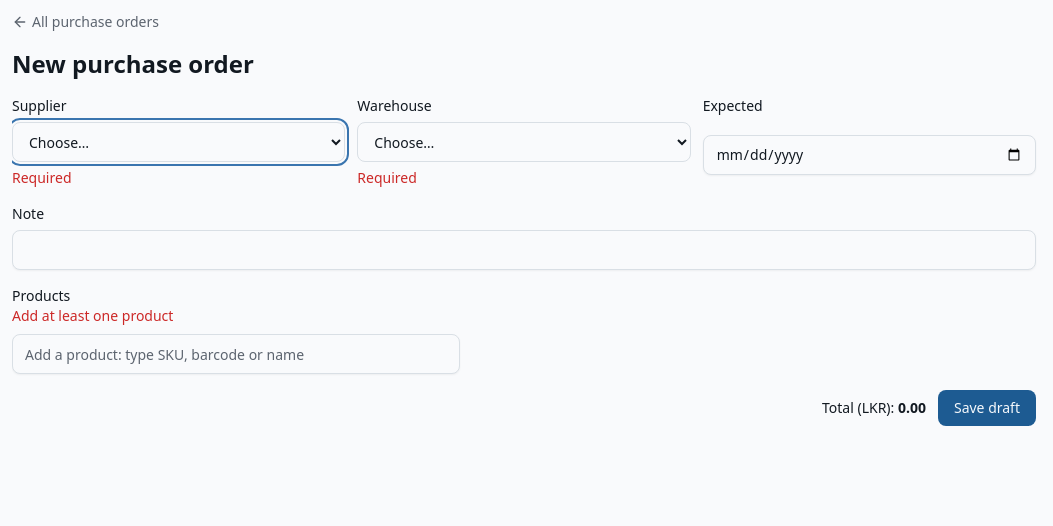
Scenario: adds a product, prices cases from the catalog cost and saves the draft
Earlier steps of the test are not shown.
Later steps or results of the test are not shown.
Check: the text "Add at least one product" is shown, box [12,306,173,325]
Select "Lanka Oils (SUP-1)" in the dropdown labelled "Supplier" at [179, 142], box [12,122,345,162]
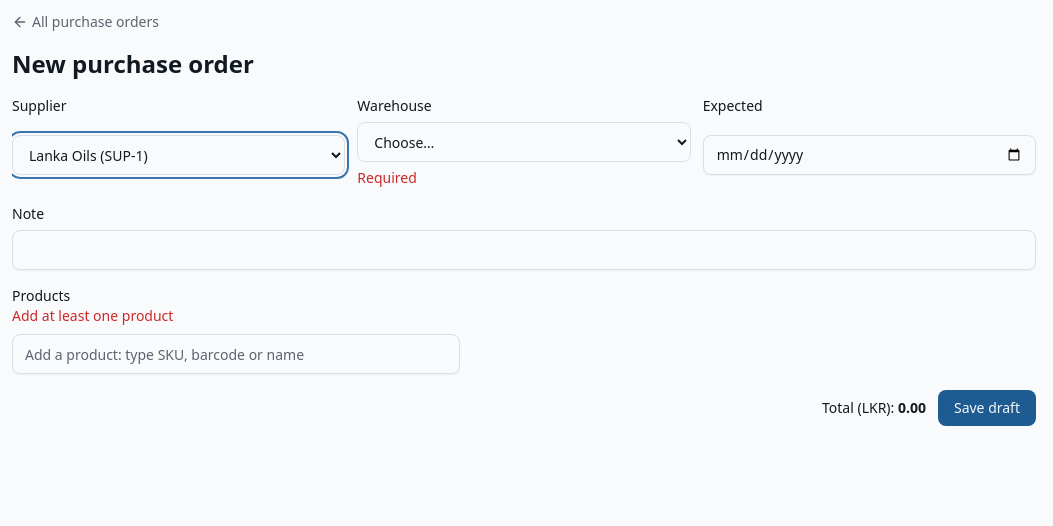
Select "MAIN · Main" in the dropdown labelled "Warehouse" at [524, 142], box [357,122,691,162]
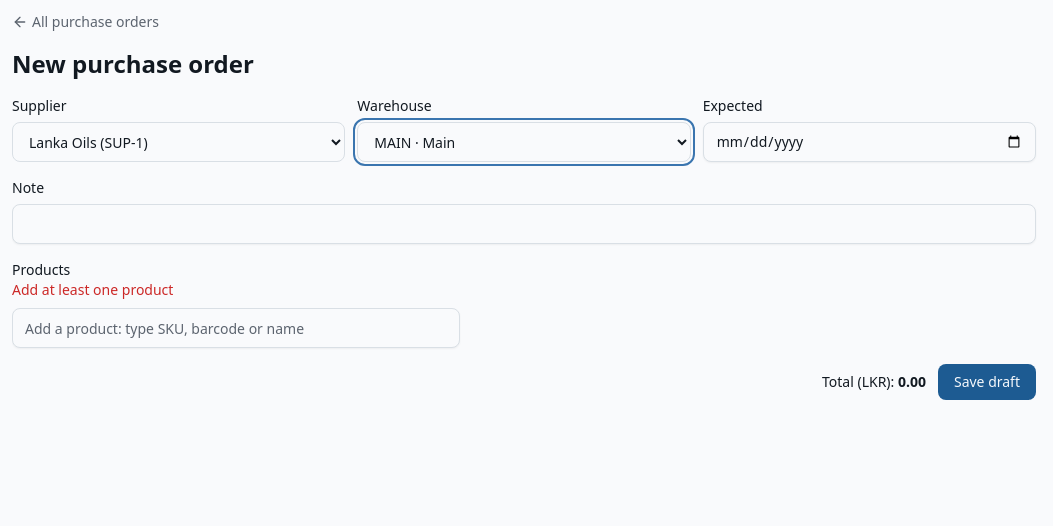
Type "oil" into the field labelled "Add a product: type SKU, barcode or name" at [236, 328], box [12,308,460,348]
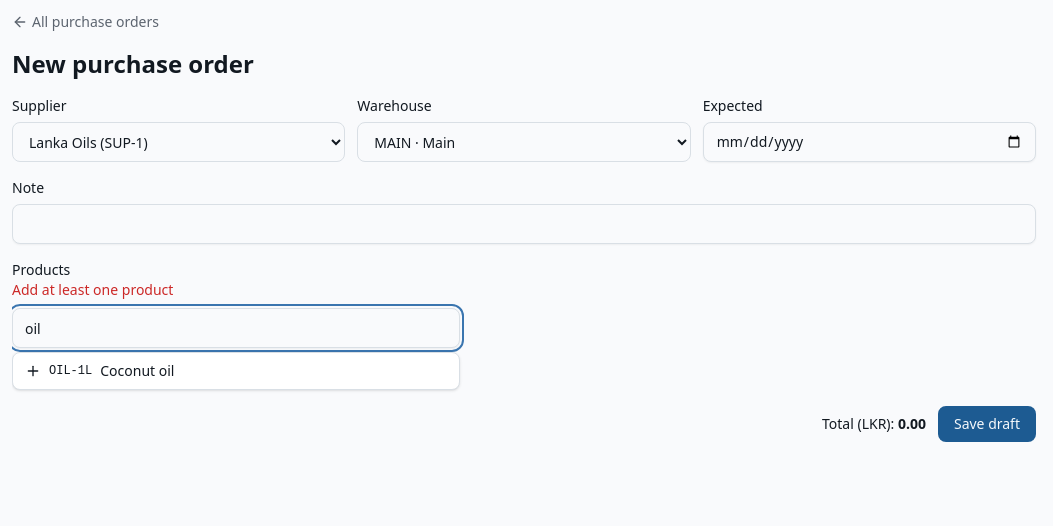
Click the button "OIL-1L Coconut oil" at [71, 371], box [13,353,459,389]
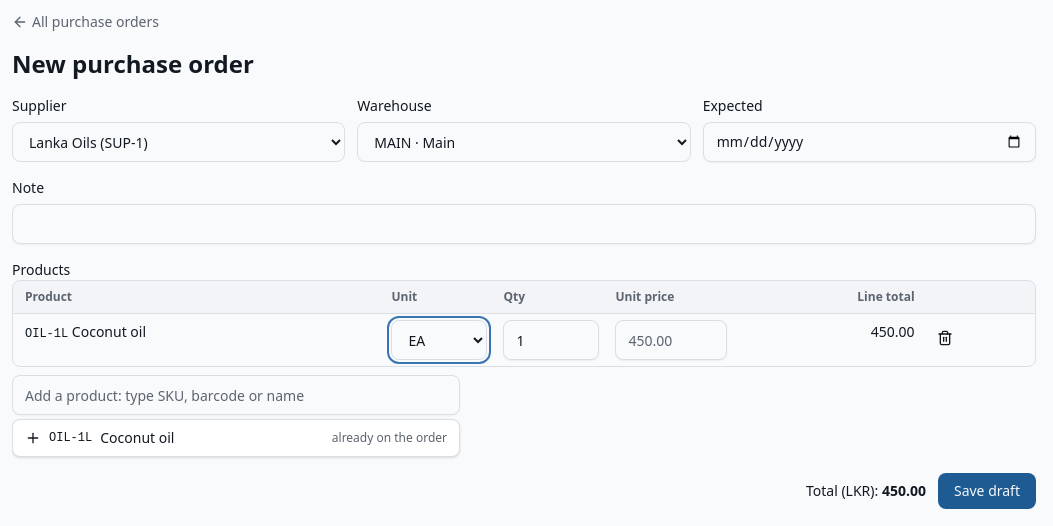
Select "CASE × 12" in the dropdown named "Unit for OIL-1L" at [440, 340], box [392,320,488,360]
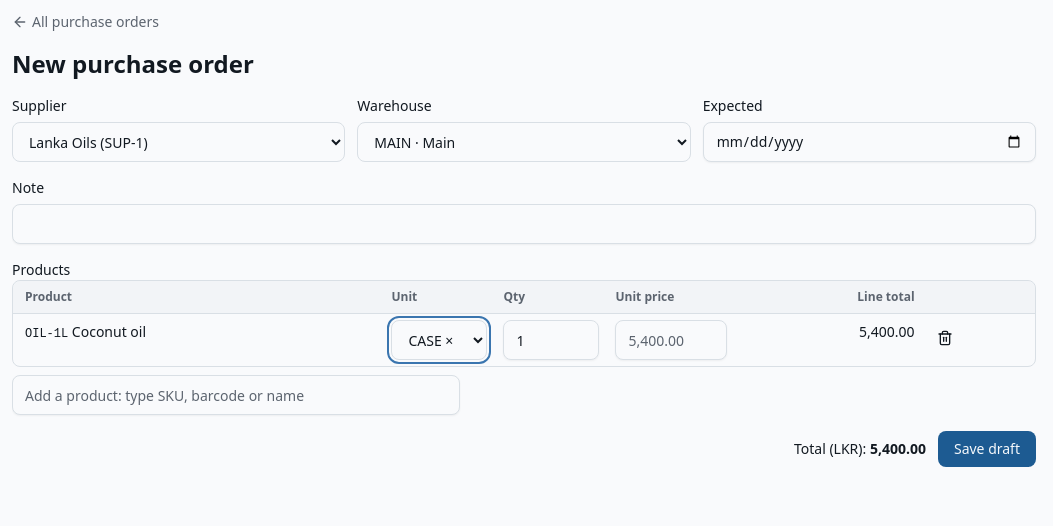
Replace the text in the field named "Quantity of OIL-1L" with "10" at [552, 340], box [504,320,600,360]
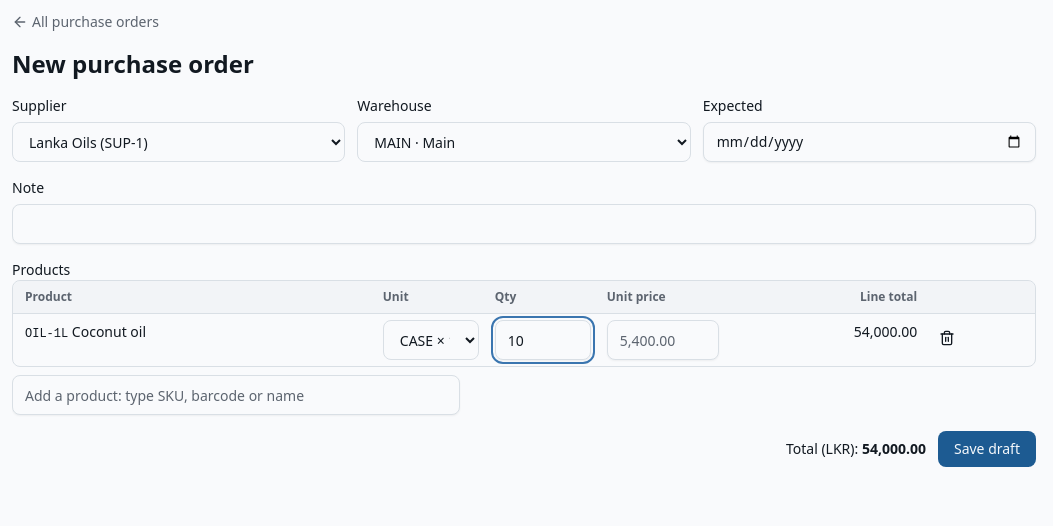
Check: the text "54,000.00" is shown 2 times, box [727,314,925,366]; [862,439,926,458]
